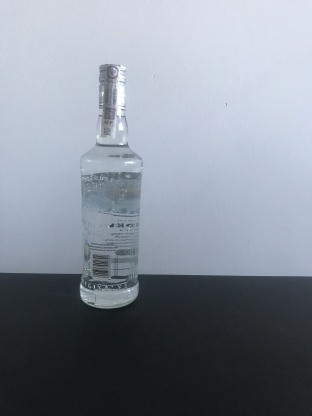nakretka: (96, 60, 128, 112)
